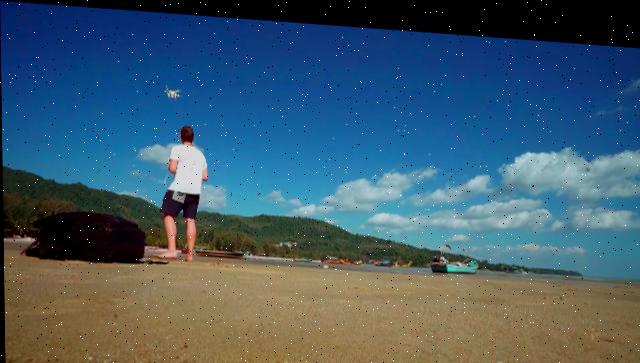drone: (164, 82, 183, 96)
